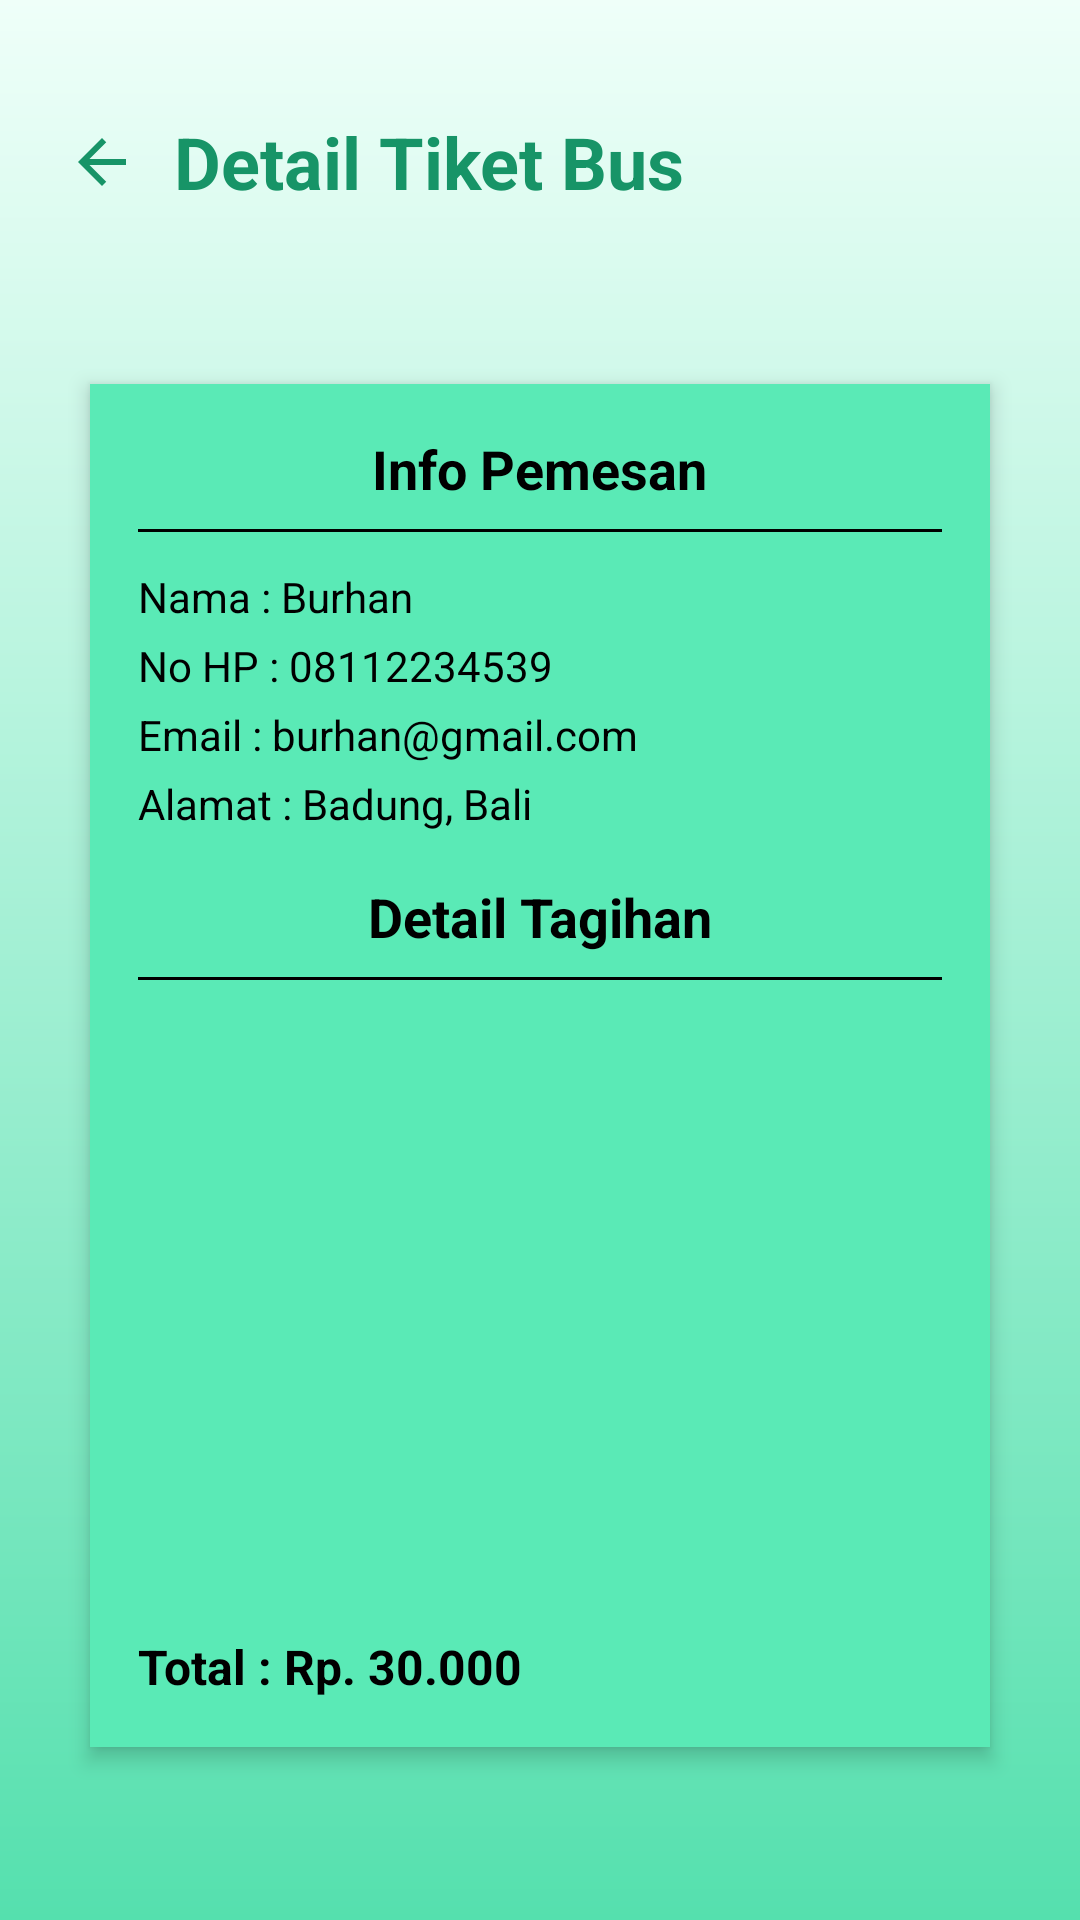

Icon bounding boxes for this 1080 × 1920 phone screenshot, format (x1, y1, x2, y2):
Kembali: (78, 138, 126, 186)
